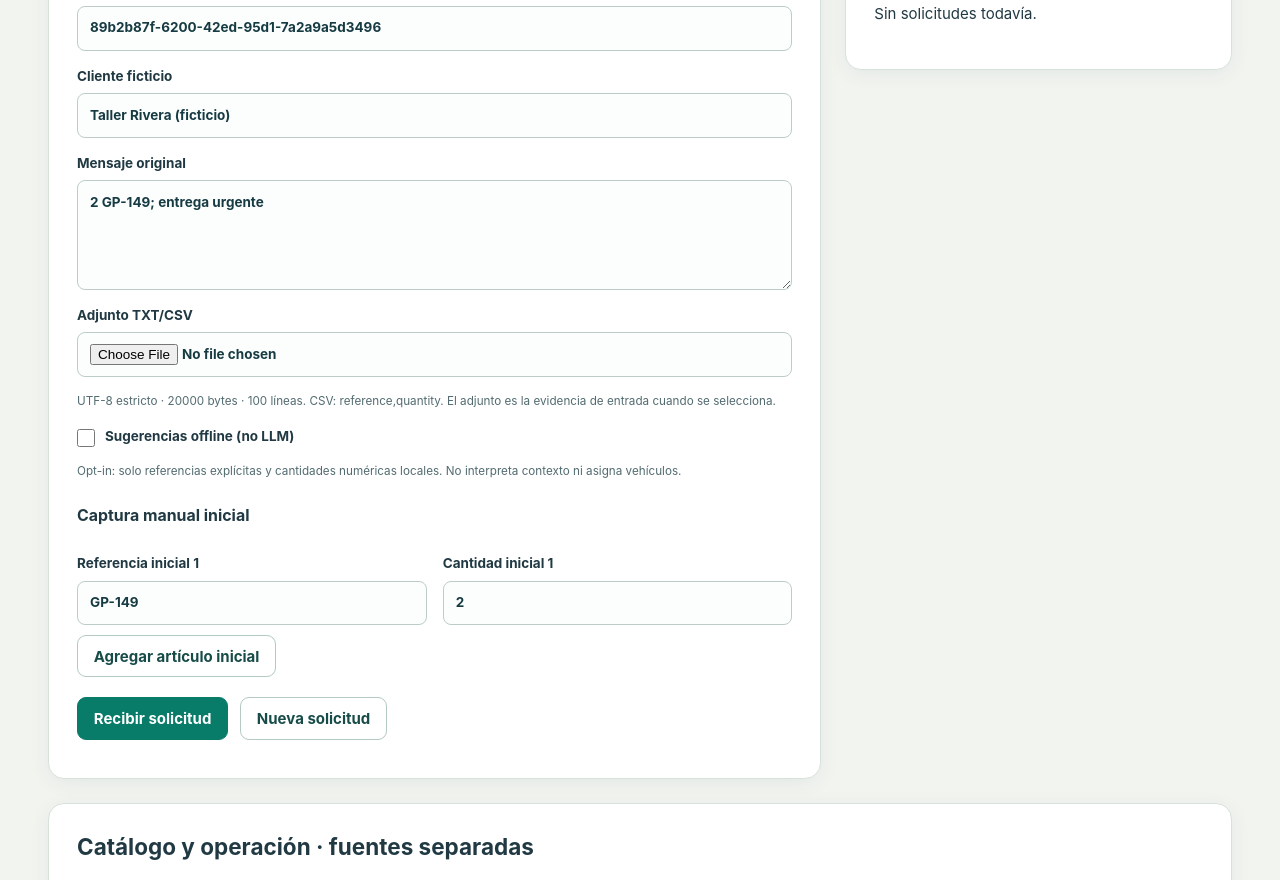
Test case: offline intake defaults manual; explicit suggestions preserve original in review
(page scrolled)
Click the checkbox labelled "Sugerencias offline (no LLM)". click: (86, 438)
box: 77,429 -> 95,447
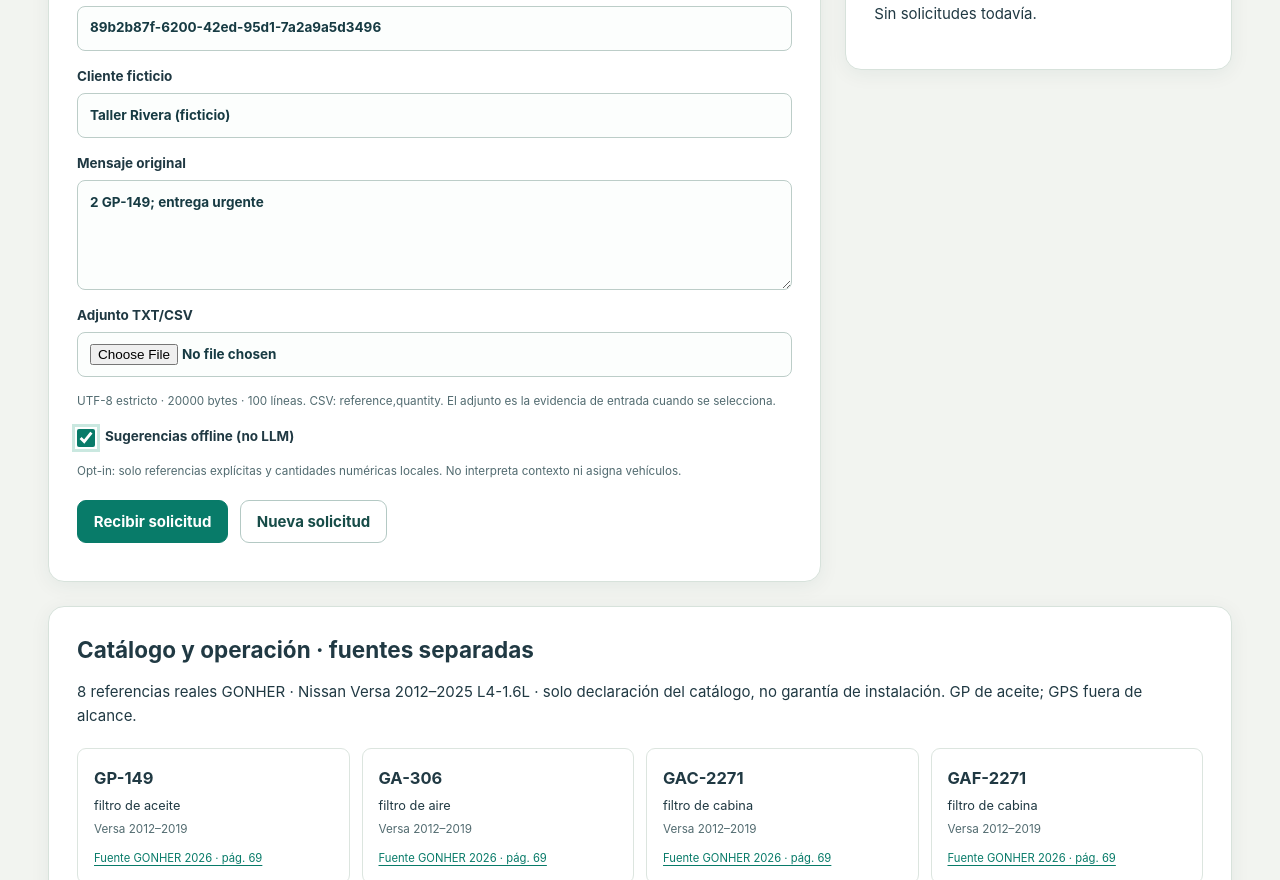
Click the button "Recibir solicitud". click: (153, 522)
box: 77,500 -> 228,543
(page scrolled)
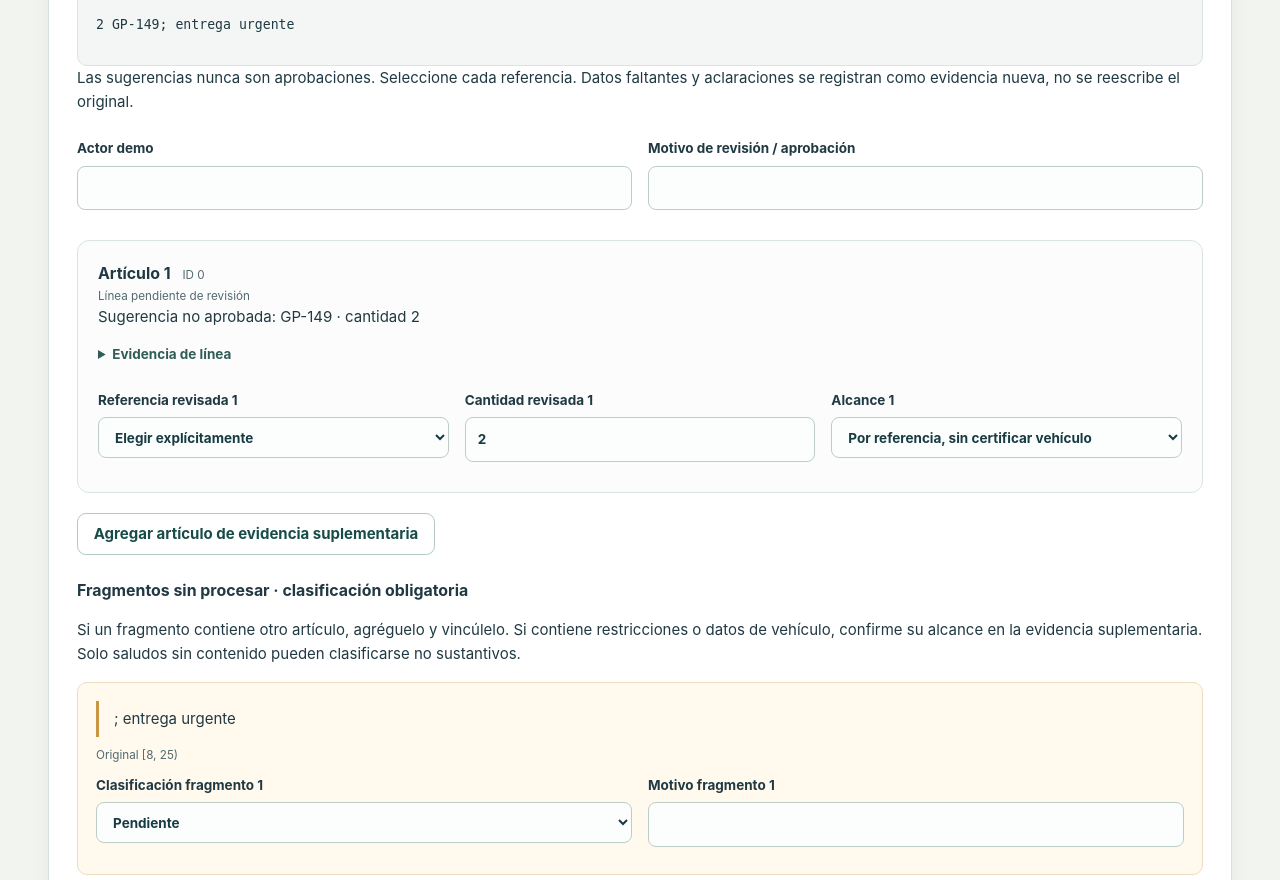
Now the text "2 GP-149; entrega urgente" is shown, box 96,17 -> 294,32
Now the text "Línea pendiente de revisión" is shown, box 98,289 -> 250,303
Now the dropdown labelled "Referencia revisada 1" shows "Elegir explícitamente", box 98,417 -> 449,458
